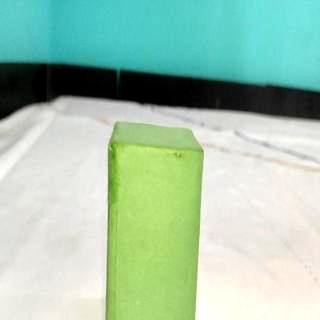greenbox: (105, 119, 207, 320)
